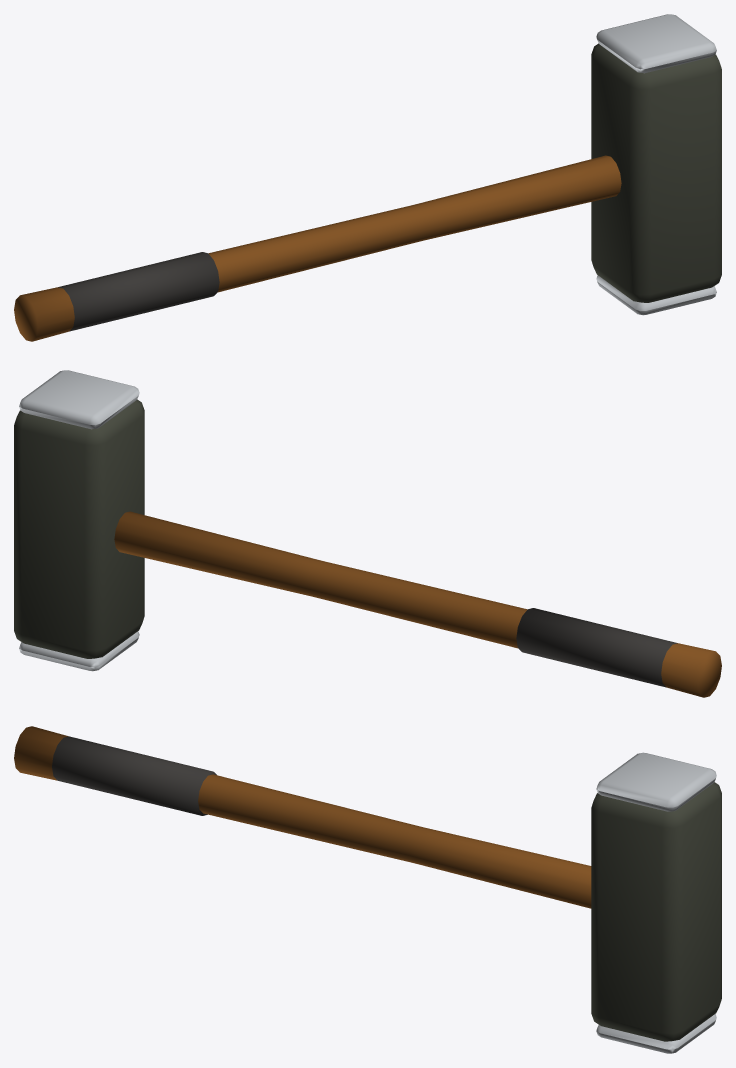
The model's file is held_sledge.glb.
3 renders of one model, top to bottom at view 1: azimuth 30°, elevation 25°; view 2: azimuth 150°, elevation 25°; view 3: azimuth 330°, elevation 25°, orthographic.
Parts seen in each view (by area): view 1: head, haft, grip, face_1, face_-1; view 2: head, haft, grip, face_1, face_-1; view 3: head, haft, grip, face_1, face_-1.
Boxes of the visible parts, x1=… form: head: x1=591, y1=43, x2=721, y2=302; haft: x1=14, y1=155, x2=621, y2=341; grip: x1=58, y1=252, x2=219, y2=331; face_1: x1=596, y1=14, x2=716, y2=73; face_-1: x1=596, y1=275, x2=716, y2=315; head: x1=14, y1=399, x2=144, y2=658; haft: x1=114, y1=511, x2=721, y2=697; grip: x1=516, y1=608, x2=677, y2=687; face_1: x1=19, y1=370, x2=139, y2=429; face_-1: x1=19, y1=631, x2=139, y2=671; head: x1=591, y1=782, x2=721, y2=1041; haft: x1=14, y1=726, x2=591, y2=908; grip: x1=52, y1=736, x2=216, y2=815; face_1: x1=596, y1=752, x2=716, y2=811; face_-1: x1=596, y1=1014, x2=716, y2=1053.
Size of the model in its own units: 0.965 by 0.35 by 0.13.
